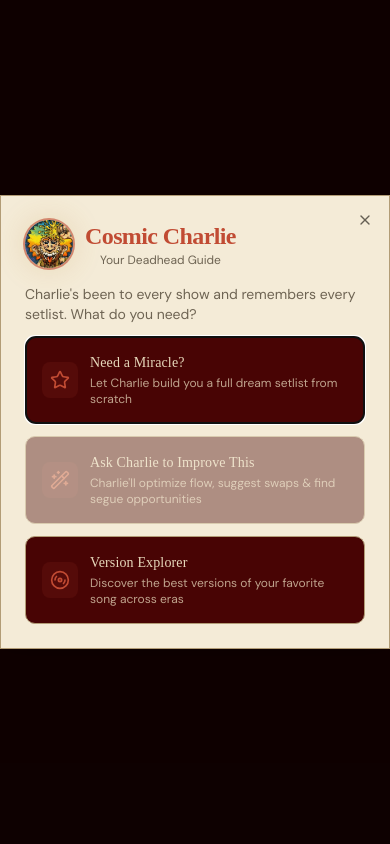
Test case: Save as Listening Guide › saves both milestones once the lookups land
The width and height of the screenshot is (390, 844).
Later steps or results of the test are not shown.
Click the button "Version Explorer": [195, 580] box [25,536,365,624]
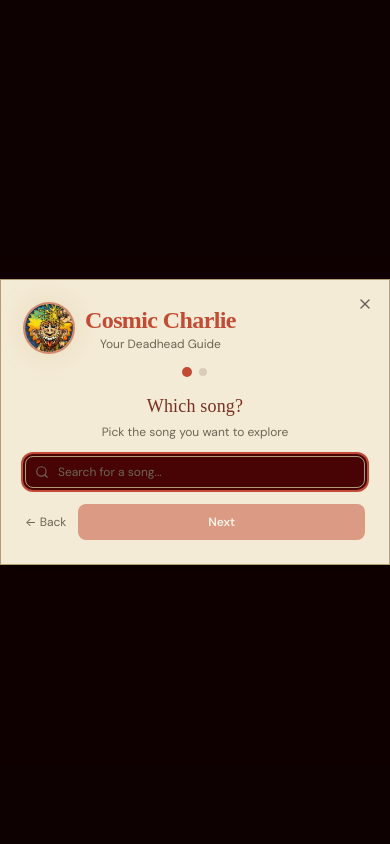
In the field with placeholder "Search for a song...": [195, 472] box [25,456,365,488], type "Ramble"
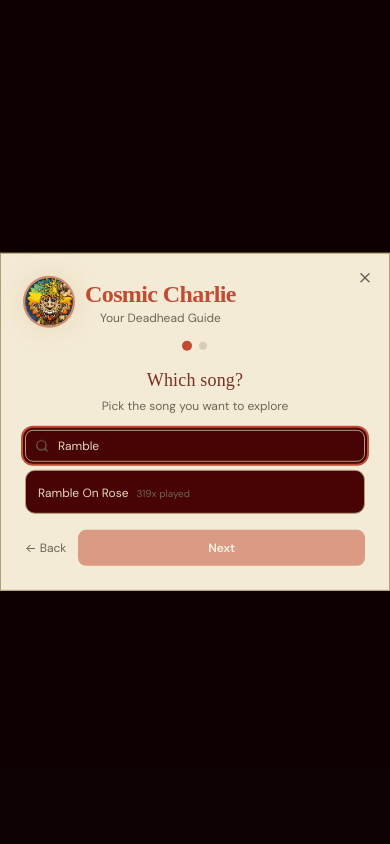
Click the text "Ramble On Rose": [83, 493] box [38,485,128,501]
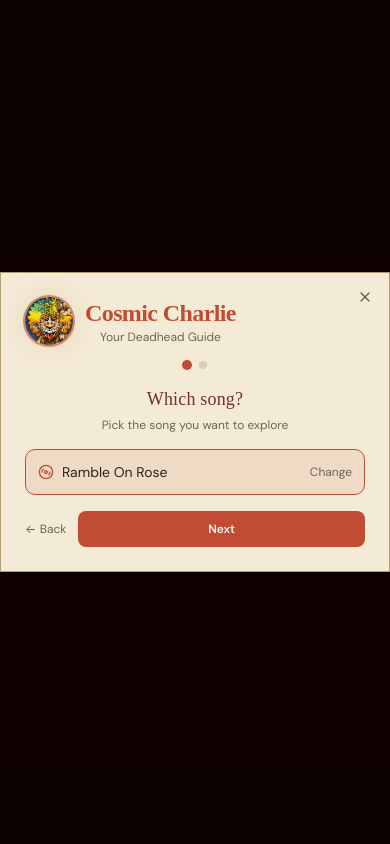
Click the button "Next": [222, 529] box [78,511,365,547]
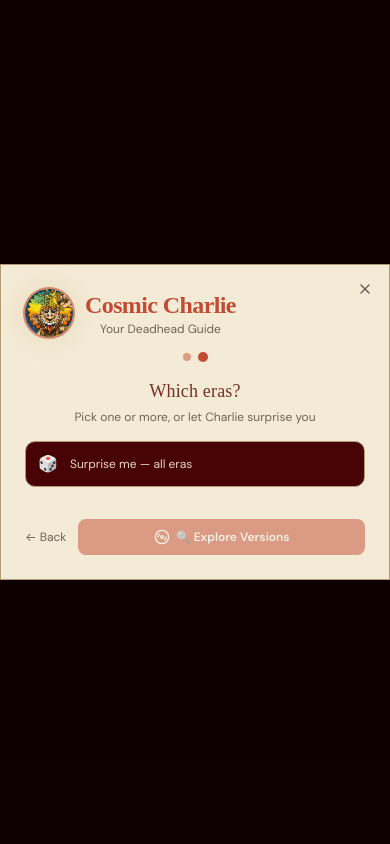
Click the text "Surprise me — all eras": [131, 464] box [70,456,192,472]
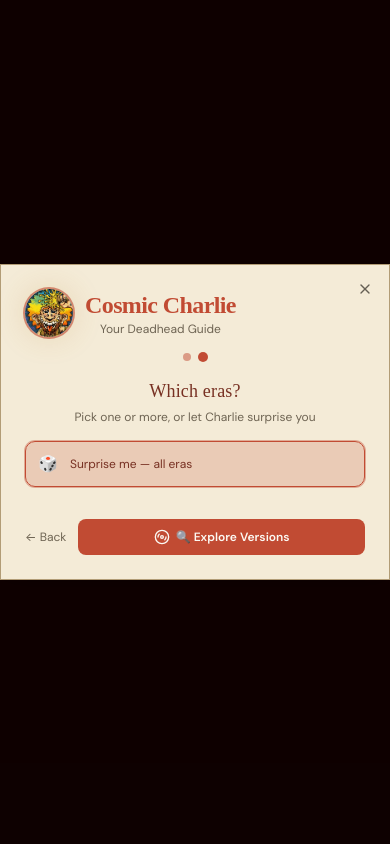
Click the button "🔍 Explore Versions": [222, 537] box [78,519,365,555]
(page scrolled)
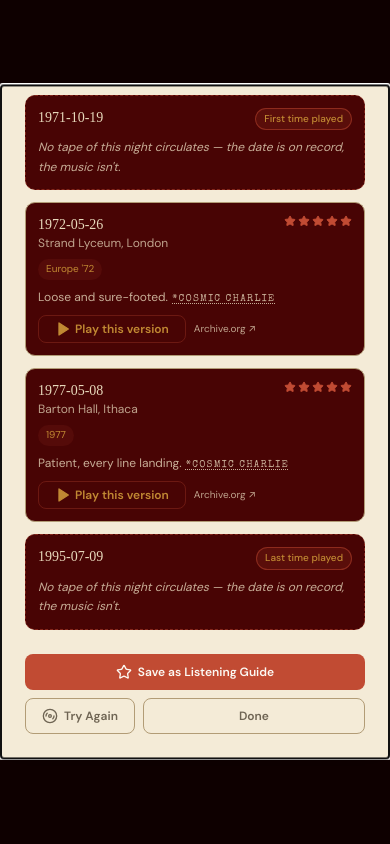
Expected: the button "Save as Listening Guide" is enabled, [25,654,365,690]
